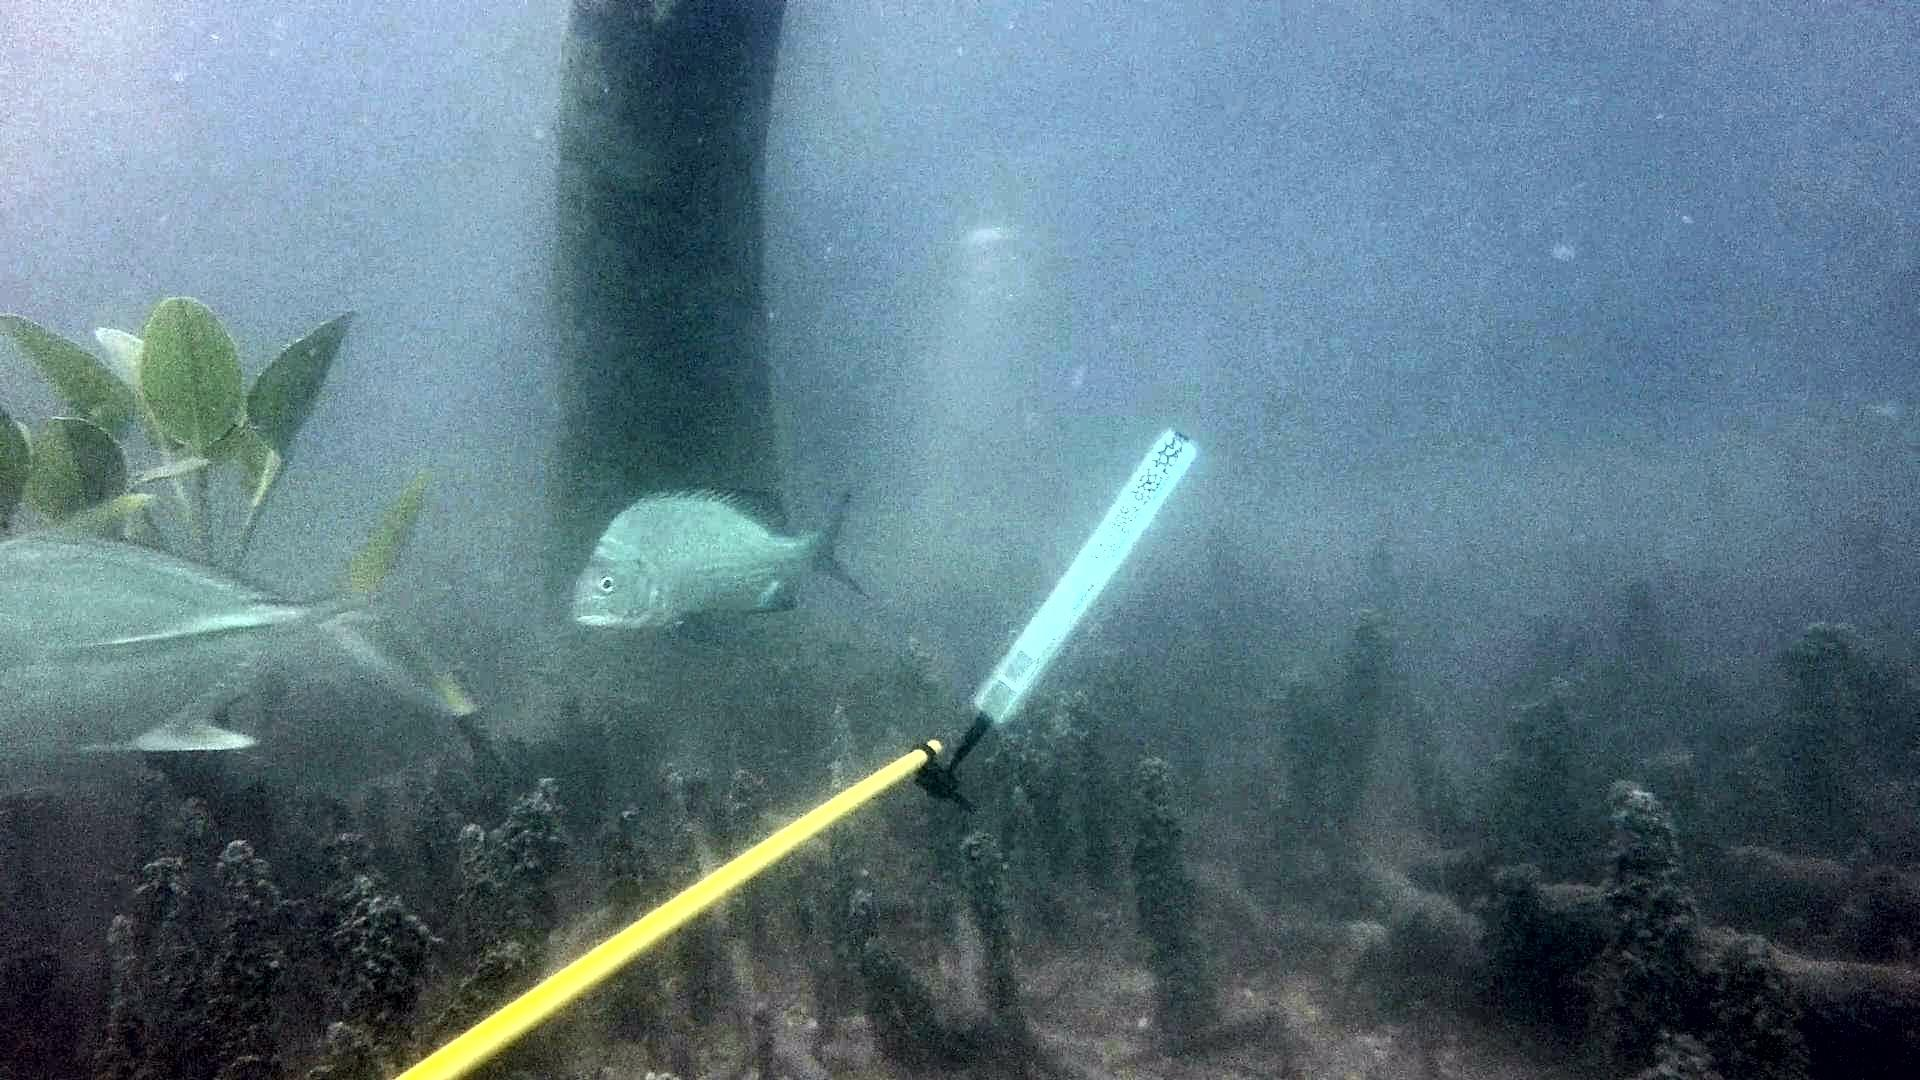acanthopagrus palmaris: (563, 473, 873, 659)
caranx: (0, 471, 485, 781)
